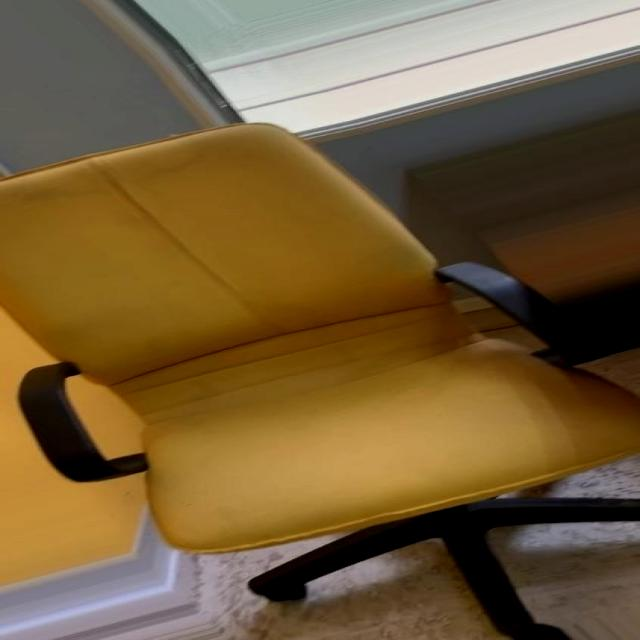Chair: (2, 124, 638, 640)
